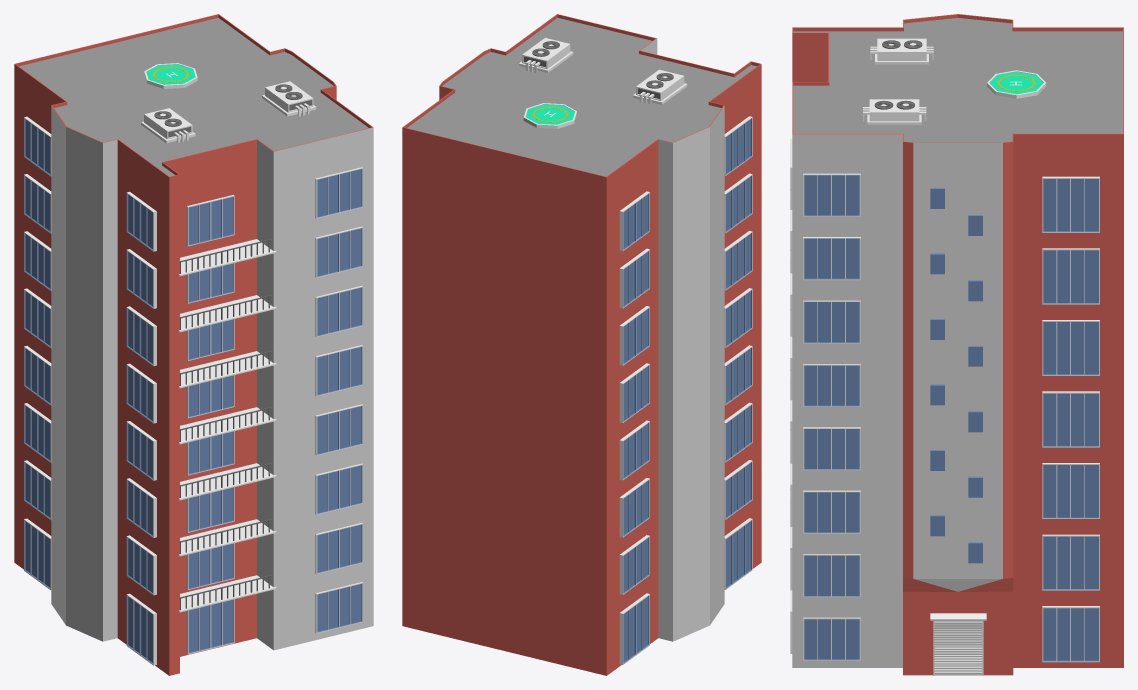
File: Building_05_tran.glb
3 renders of one model, left to right at view 1: azimuth 30°, elevation 25°; view 2: azimuth 150°, elevation 25°; view 3: azimuth 270°, elevation 25°, orthographic. The views are drawn at different scales.
Parts seen in each view (by area): view 1: Cube.11582, Window1.001, Railings_37.000, Windows2.002, Window3.001, Window3.002, Windows2.000, Window3.000, Window3.003, Cube.13370, Cube.13368, Cube.13369; view 2: Cube.11582, Window3.002, Window3.001, Window3.003, Window3.000, Cube.13370, Cube.13368, Cube.13369; view 3: Cube.11582, Window5.001, Window1.001, Small.000, Shutter_4.001, Cube.13368, Cube.13370, Cube.13369.
Part boxes in pixels (left/top/right/bottom): Cube.11582: left=14, top=14, right=373, bottom=675; Window1.001: left=315, top=167, right=362, bottom=633; Railings_37.000: left=178, top=238, right=276, bottom=612; Windows2.002: left=186, top=195, right=234, bottom=589; Window3.001: left=126, top=191, right=156, bottom=595; Window3.002: left=24, top=116, right=51, bottom=519; Windows2.000: left=186, top=599, right=234, bottom=654; Window3.000: left=126, top=593, right=156, bottom=665; Window3.003: left=24, top=518, right=51, bottom=590; Cube.13370: left=262, top=81, right=316, bottom=116; Cube.13368: left=141, top=108, right=195, bottom=143; Cube.13369: left=144, top=63, right=197, bottom=88; Cube.11582: left=402, top=14, right=761, bottom=675; Window3.002: left=619, top=191, right=649, bottom=594; Window3.001: left=724, top=116, right=752, bottom=519; Window3.003: left=619, top=593, right=649, bottom=664; Window3.000: left=724, top=518, right=752, bottom=589; Cube.13370: left=519, top=38, right=573, bottom=72; Cube.13368: left=633, top=69, right=687, bottom=104; Cube.13369: left=523, top=103, right=576, bottom=128; Cube.11582: left=792, top=14, right=1123, bottom=675; Window5.001: left=1042, top=176, right=1099, bottom=662; Window1.001: left=790, top=143, right=860, bottom=660; Small.000: left=930, top=188, right=982, bottom=563; Shutter_4.001: left=930, top=613, right=986, bottom=675; Cube.13368: left=870, top=38, right=933, bottom=64; Cube.13370: left=863, top=99, right=926, bottom=124; Cube.13369: left=987, top=70, right=1046, bottom=98.
Size of the model in its own units: 0.3295 by 0.631 by 0.3511.
